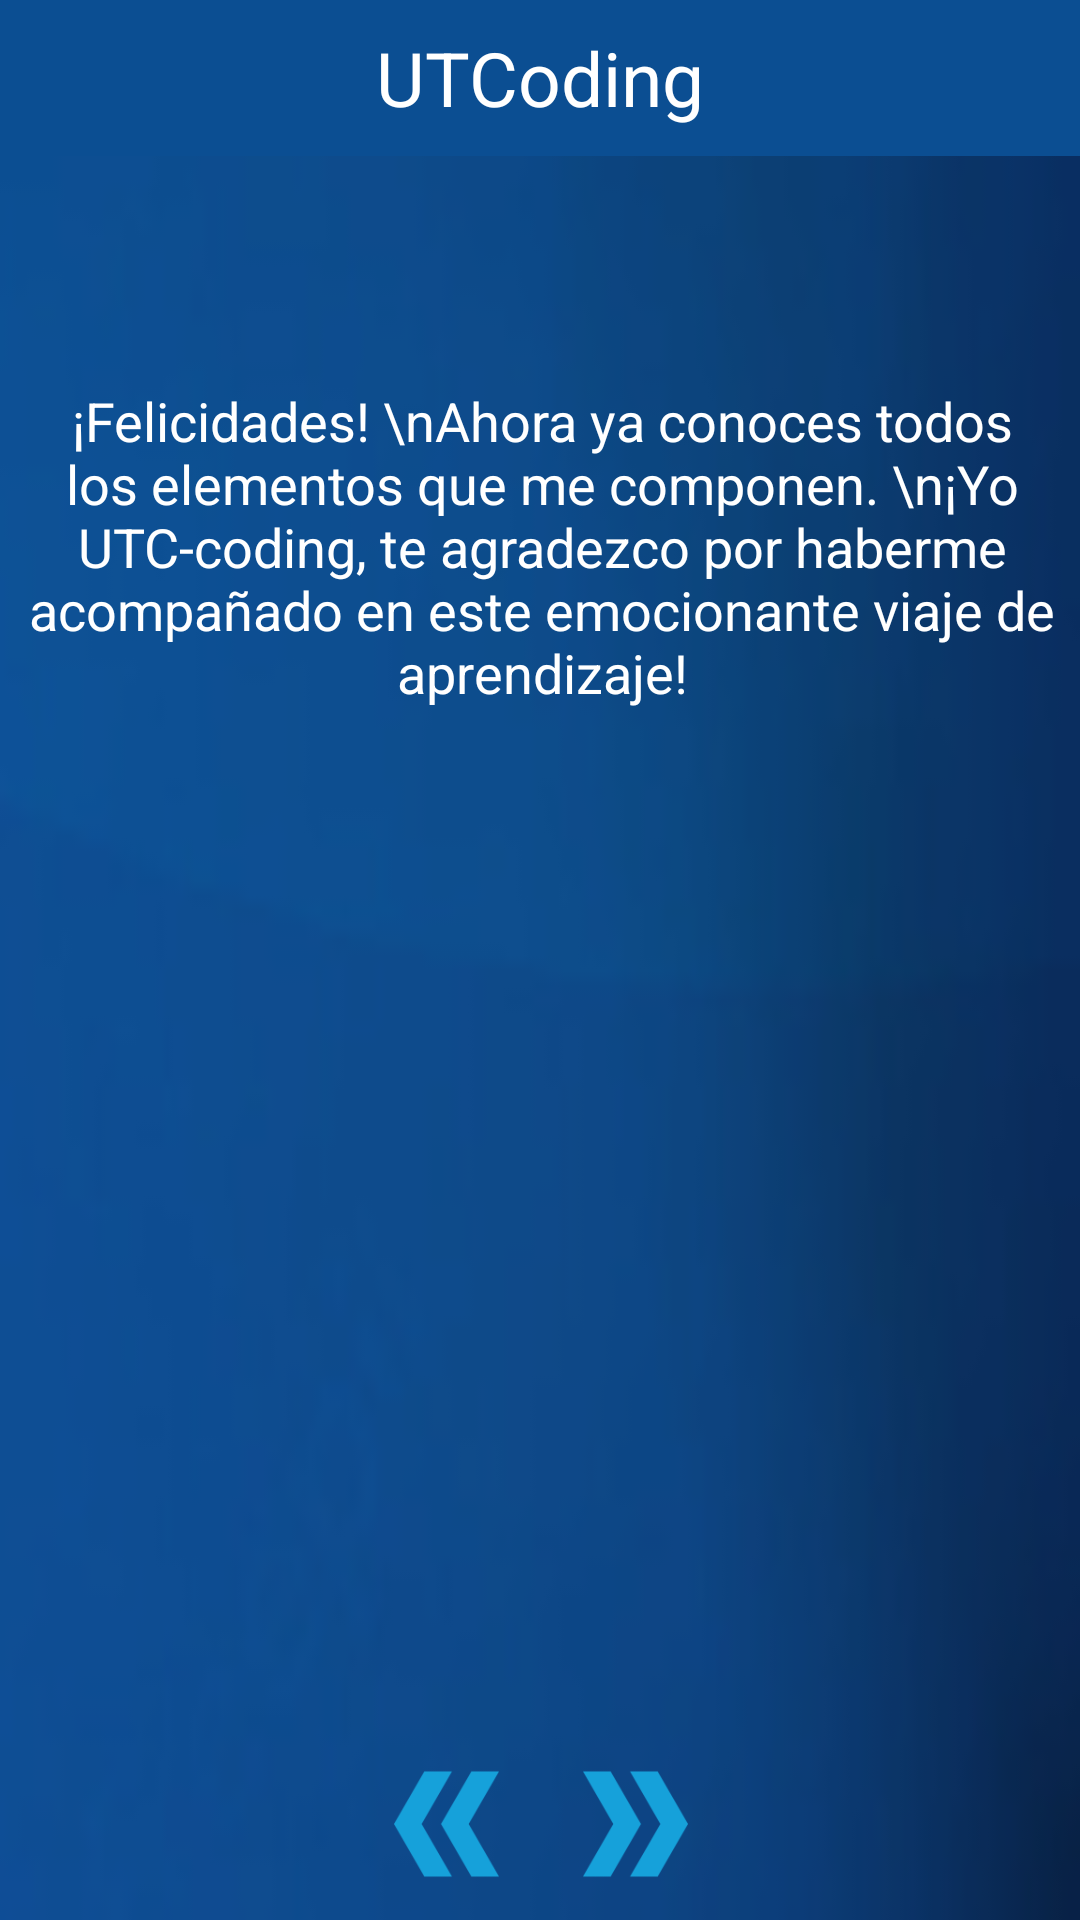

Where to tap for icons on this 1080px x 1920px app screen, as (x=x, y=y):
regresar: (x=446, y=1824)
siguiente: (x=635, y=1824)
